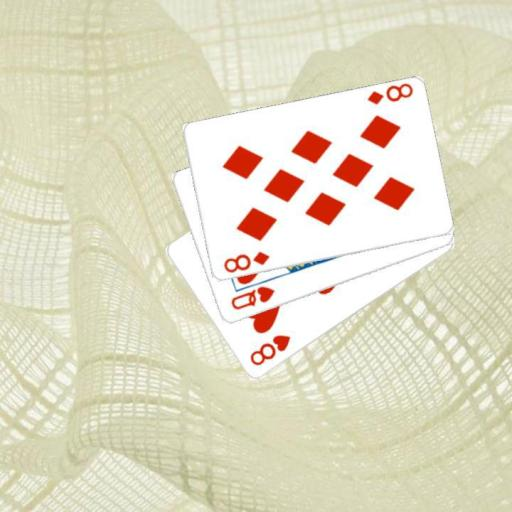8D: (364, 80, 415, 107), (220, 249, 271, 274)
8H: (246, 331, 292, 368)
QH: (227, 283, 276, 312)
